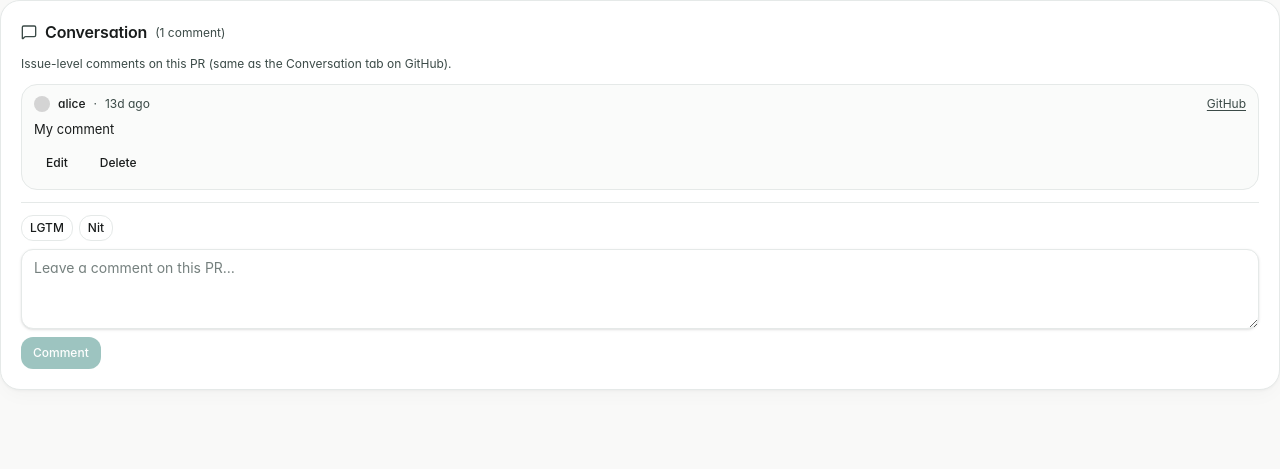
Test case: ConversationPanel › cancels edit mode without saving
The width and height of the screenshot is (1280, 469).
Click the button "Edit" at {"x": 57, "y": 163}, box [34, 147, 80, 179]
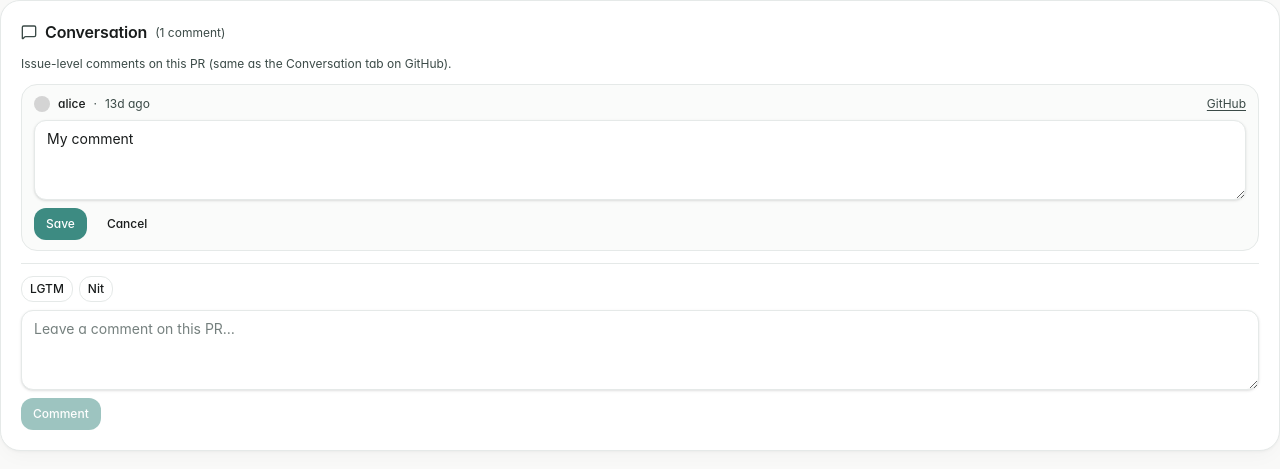
Type " temp" into the text box named "Edit comment" at {"x": 640, "y": 160}, box [34, 120, 1246, 200]
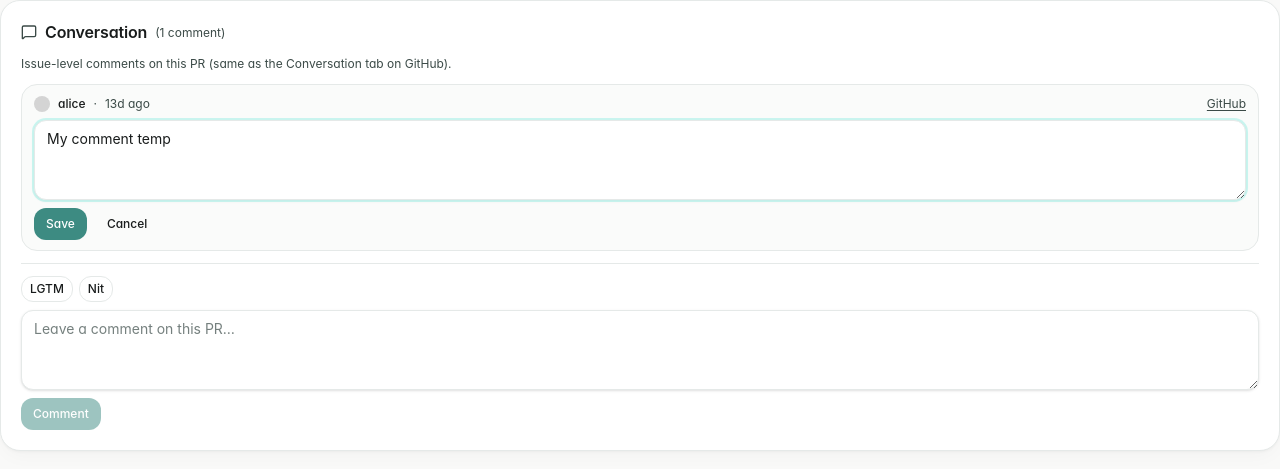
Click the button "Cancel" at {"x": 127, "y": 224}, box [95, 208, 159, 240]
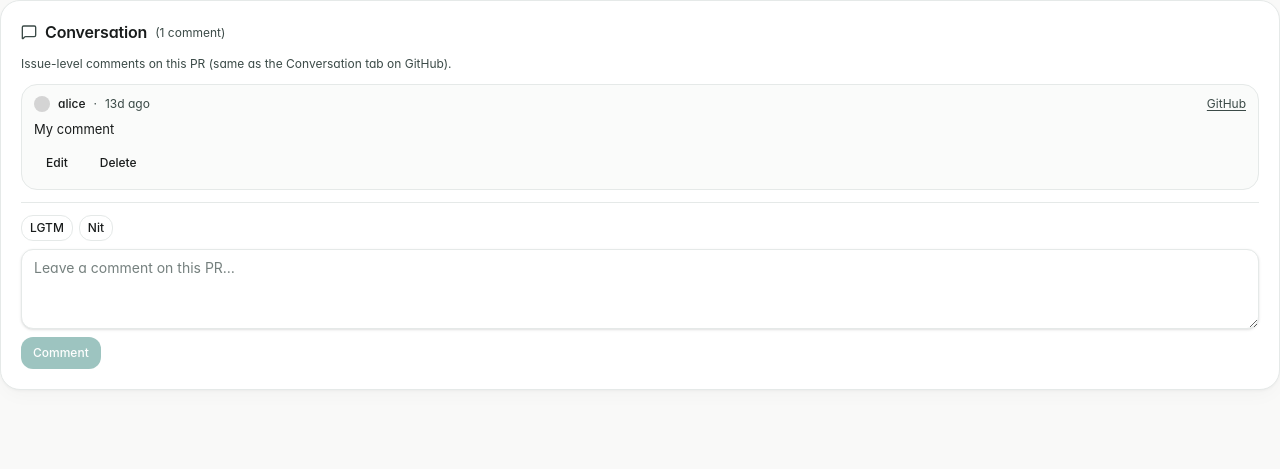
expect the text "My comment" is shown: met, box [34, 121, 114, 137]
